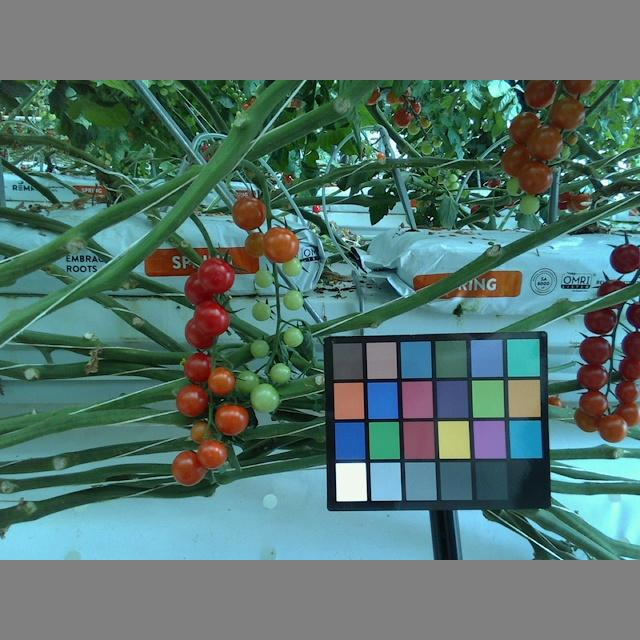green: (251, 383, 280, 413), (269, 359, 292, 384), (235, 371, 259, 393), (281, 325, 305, 346), (282, 255, 305, 276), (283, 288, 304, 311), (516, 194, 541, 213), (255, 268, 274, 288), (251, 302, 272, 320), (249, 340, 269, 358)
pink: (525, 124, 563, 161), (263, 226, 299, 263), (229, 195, 267, 230), (517, 158, 553, 194), (547, 99, 586, 132), (501, 143, 535, 178), (507, 112, 542, 145), (576, 389, 608, 417), (601, 413, 628, 445), (611, 402, 640, 430), (245, 230, 272, 257)
red: (195, 257, 236, 295), (194, 302, 230, 337), (171, 450, 207, 485), (213, 404, 250, 437), (183, 271, 219, 304), (173, 383, 209, 416), (198, 439, 231, 471), (610, 241, 640, 275), (577, 363, 610, 392), (581, 308, 617, 334), (577, 337, 611, 364), (184, 353, 214, 381), (207, 366, 235, 394), (612, 381, 640, 403), (618, 354, 640, 378)
